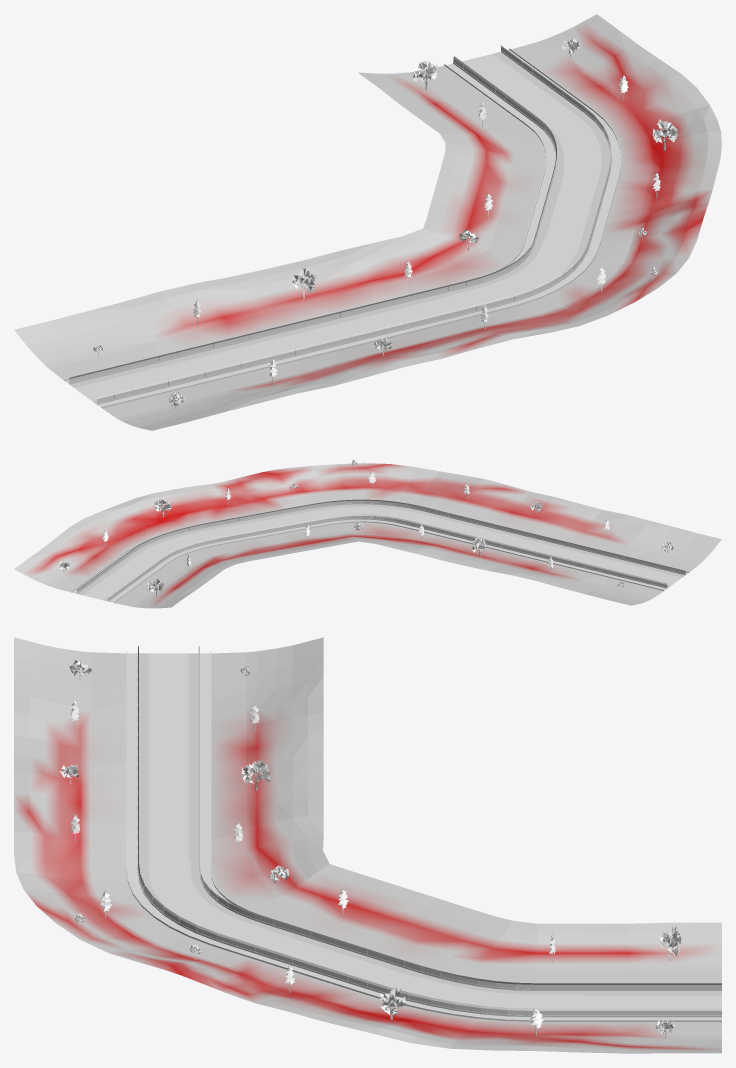
3 renders of one model, top to bottom at view 1: azimuth 30°, elevation 25°; view 2: azimuth 150°, elevation 25°; view 3: azimuth 270°, elevation 25°, orthographic. The views are drawn at different scales.
Visible parts, largest first — view 1: Grass, Road, Track, Wirefence, Trees; view 2: Grass, Road, Wirefence, Track, Trees; view 3: Grass, Road, Track, Wirefence, Trees.
Part boxes in pixels (<box>): Grass: <box>14,14,721,430</box>; Road: <box>75,54,600,400</box>; Track: <box>64,45,621,408</box>; Wirefence: <box>69,45,611,402</box>; Trees: <box>92,38,678,408</box>; Grass: <box>14,463,721,608</box>; Road: <box>83,507,681,599</box>; Wirefence: <box>77,499,685,599</box>; Track: <box>71,500,688,602</box>; Trees: <box>57,459,673,596</box>; Grass: <box>14,637,721,1053</box>; Road: <box>149,653,721,1008</box>; Track: <box>126,651,721,1021</box>; Wirefence: <box>138,645,721,1015</box>; Trees: <box>59,660,681,1039</box>.
Size of what is drawn, in the model's own units: 44500 by 1976 by 32000.
